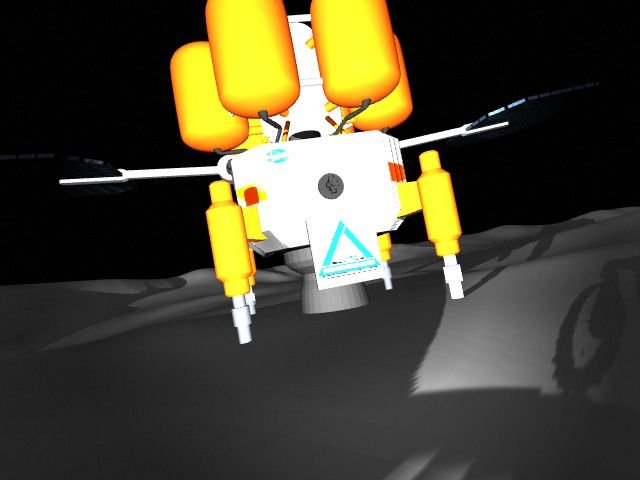basemarker: (317, 218, 381, 279)
